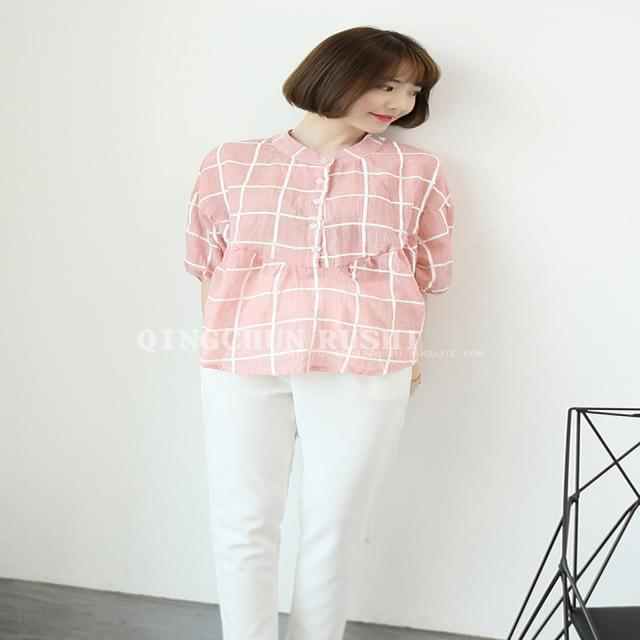long sleeve top: (186, 130, 455, 373)
trousers: (206, 313, 416, 639)
